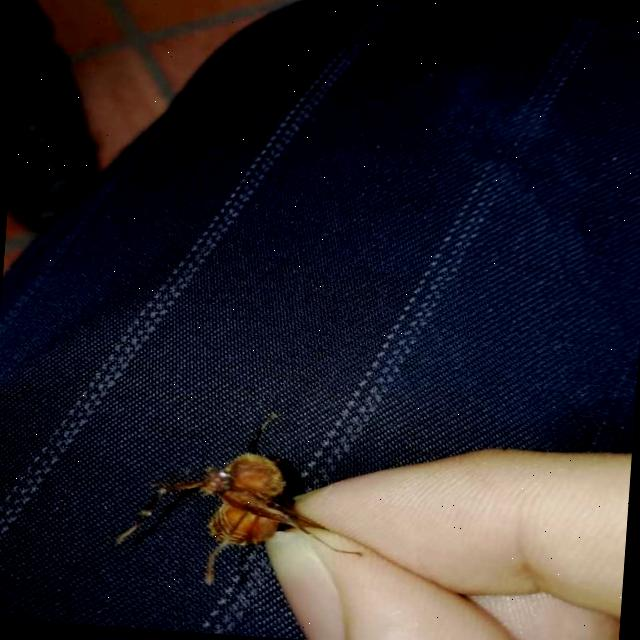Alive-Male-Alate: (109, 406, 378, 602)
